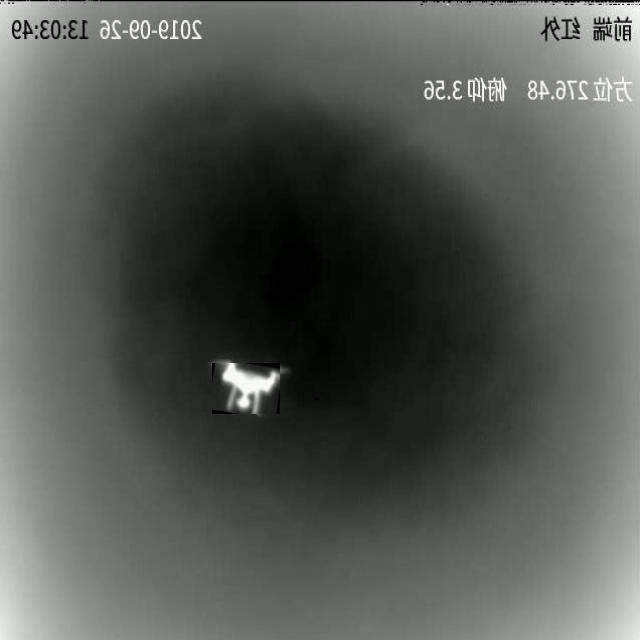drone: (212, 363, 280, 414)
